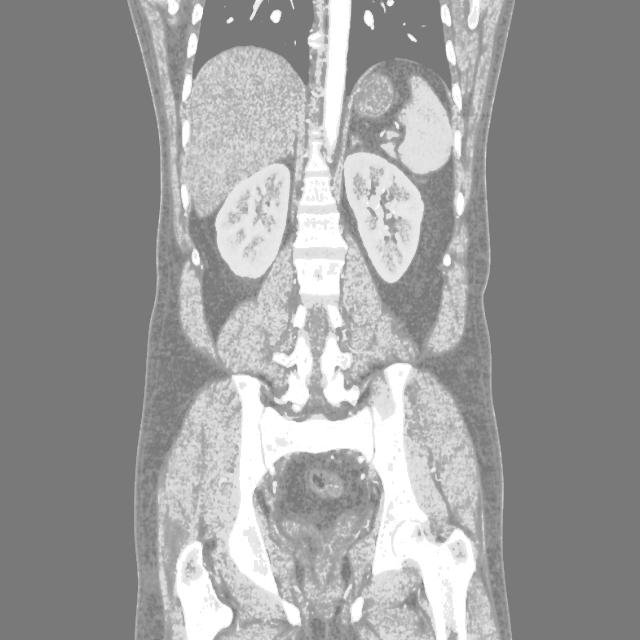NORMAL: (111, 47, 544, 585)
